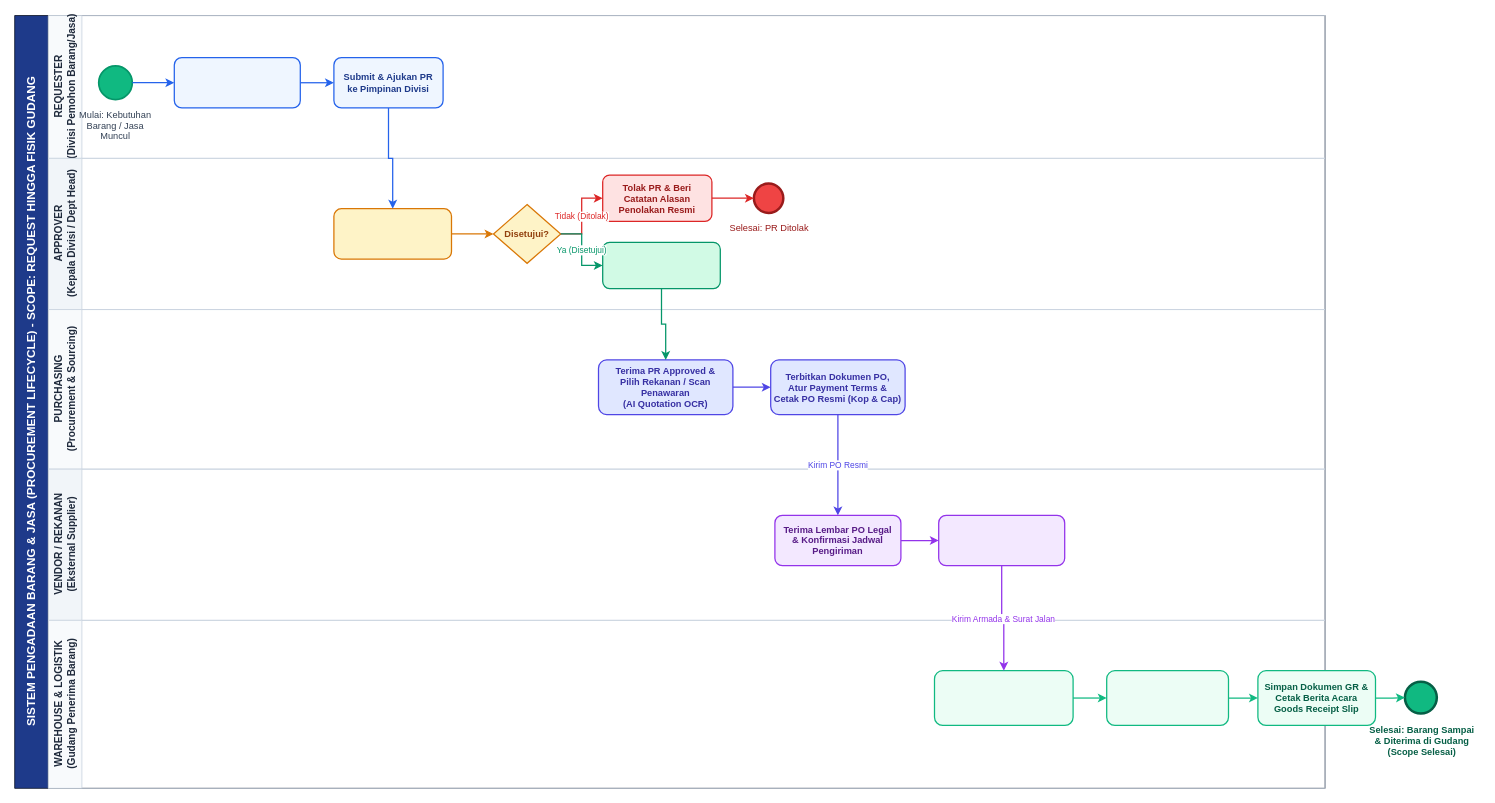
This 1495x803 diagram has some shape labels left out. The centre of each missing label's shape, as x and y in pixels:
"Armada Tiba di Gudang & Scan Surat Jalan Vendor via AI Computer Vision DO" belongs at point (1003, 698).
"Input Formulir PR Baru (Multi-Item Dinamis + AI Catalog Scanner)" belongs at point (237, 82).
"Inspeksi Fisik Barang: Kuantitas vs PO & Kondisi (Baik / Rusak)" belongs at point (1167, 698).
"Kemas Barang Fisik & Terbitkan Surat Jalan (Delivery Order / DO)" belongs at point (1001, 540).
"Setujui PR (Approve) & Teruskan ke Bagian Purchasing" belongs at point (661, 265).
"Tinjau Rincian PR, Spesifikasi Teknis & Estimasi Anggaran" belongs at point (392, 233).
